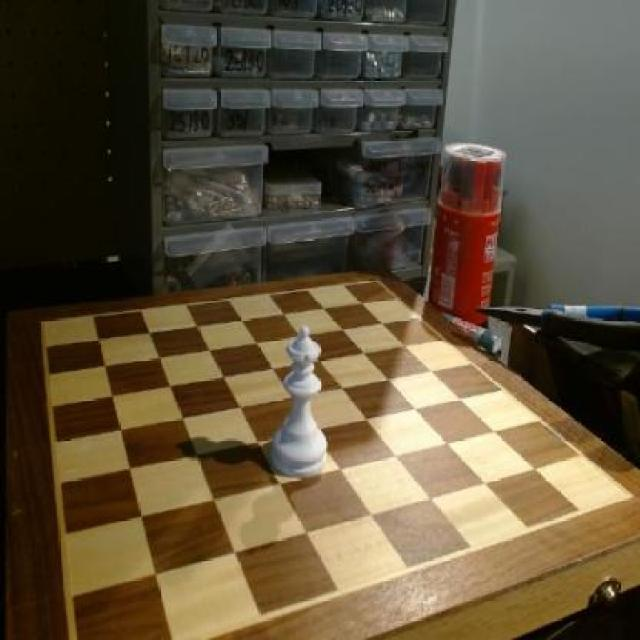white-pawn: (271, 323, 331, 479)
